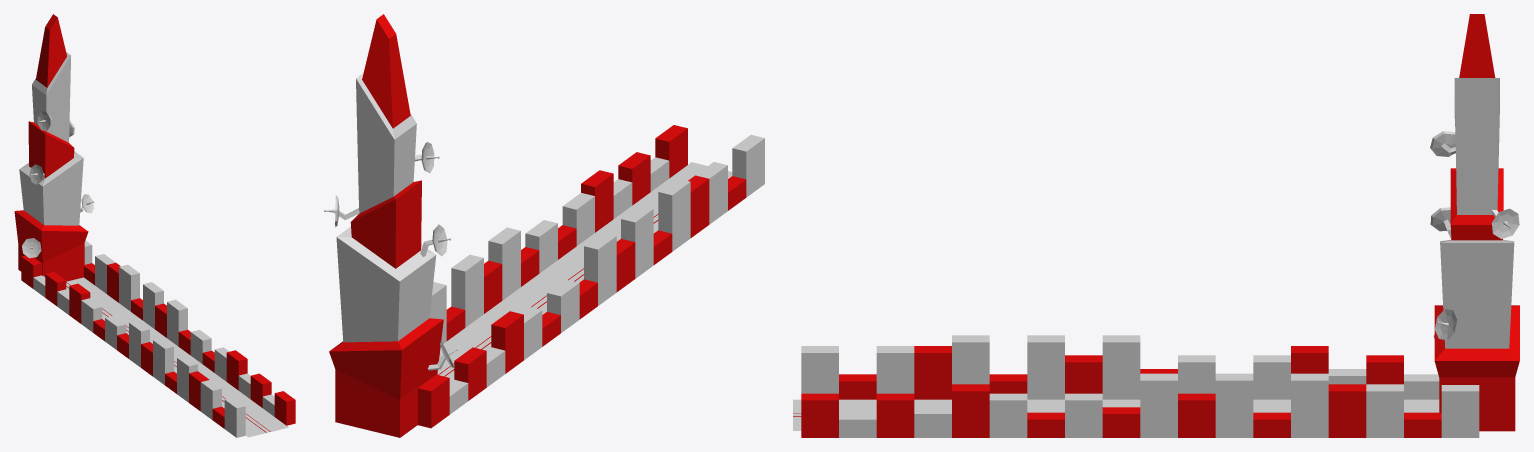
Rendered from titleMap.fbx.
3 renders of one model, left to right at view 1: azimuth 30°, elevation 25°; view 2: azimuth 150°, elevation 25°; view 3: azimuth 270°, elevation 25°, orthographic. The views are drawn at different scales.
Visible parts, largest first — view 1: Cube, Cube.007, Cube.006, Plane, Circle.001; view 2: Cube, Cube.007, Cube.006, Plane; view 3: Cube.006, Cube.007, Cube, Plane.
Part boxes in pixels (<box>): Cube: <box>14,14,88,281</box>; Cube.007: <box>21,255,245,437</box>; Cube.006: <box>84,240,295,425</box>; Plane: <box>66,277,288,437</box>; Circle.001: <box>22,238,41,258</box>; Cube: <box>329,14,443,437</box>; Cube.007: <box>418,134,764,428</box>; Cube.006: <box>429,125,687,343</box>; Plane: <box>437,162,732,382</box>; Cube.006: <box>801,373,1479,437</box>; Cube.007: <box>801,335,1439,399</box>; Cube: <box>1434,14,1519,431</box>; Plane: <box>793,399,1439,430</box>.
Bounding box in the file's own units: 5474 × 19077 × 31061.
